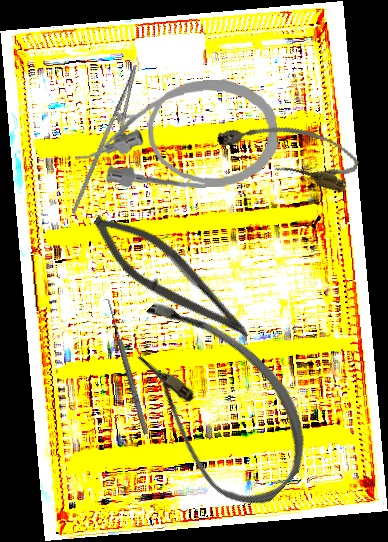Cannula: (89, 279, 337, 524), (71, 76, 280, 195), (212, 104, 364, 196)
Hook Surgical: (98, 297, 151, 437)
Micro Scissor: (79, 201, 266, 352)
Needle Holder: (70, 59, 150, 223)
